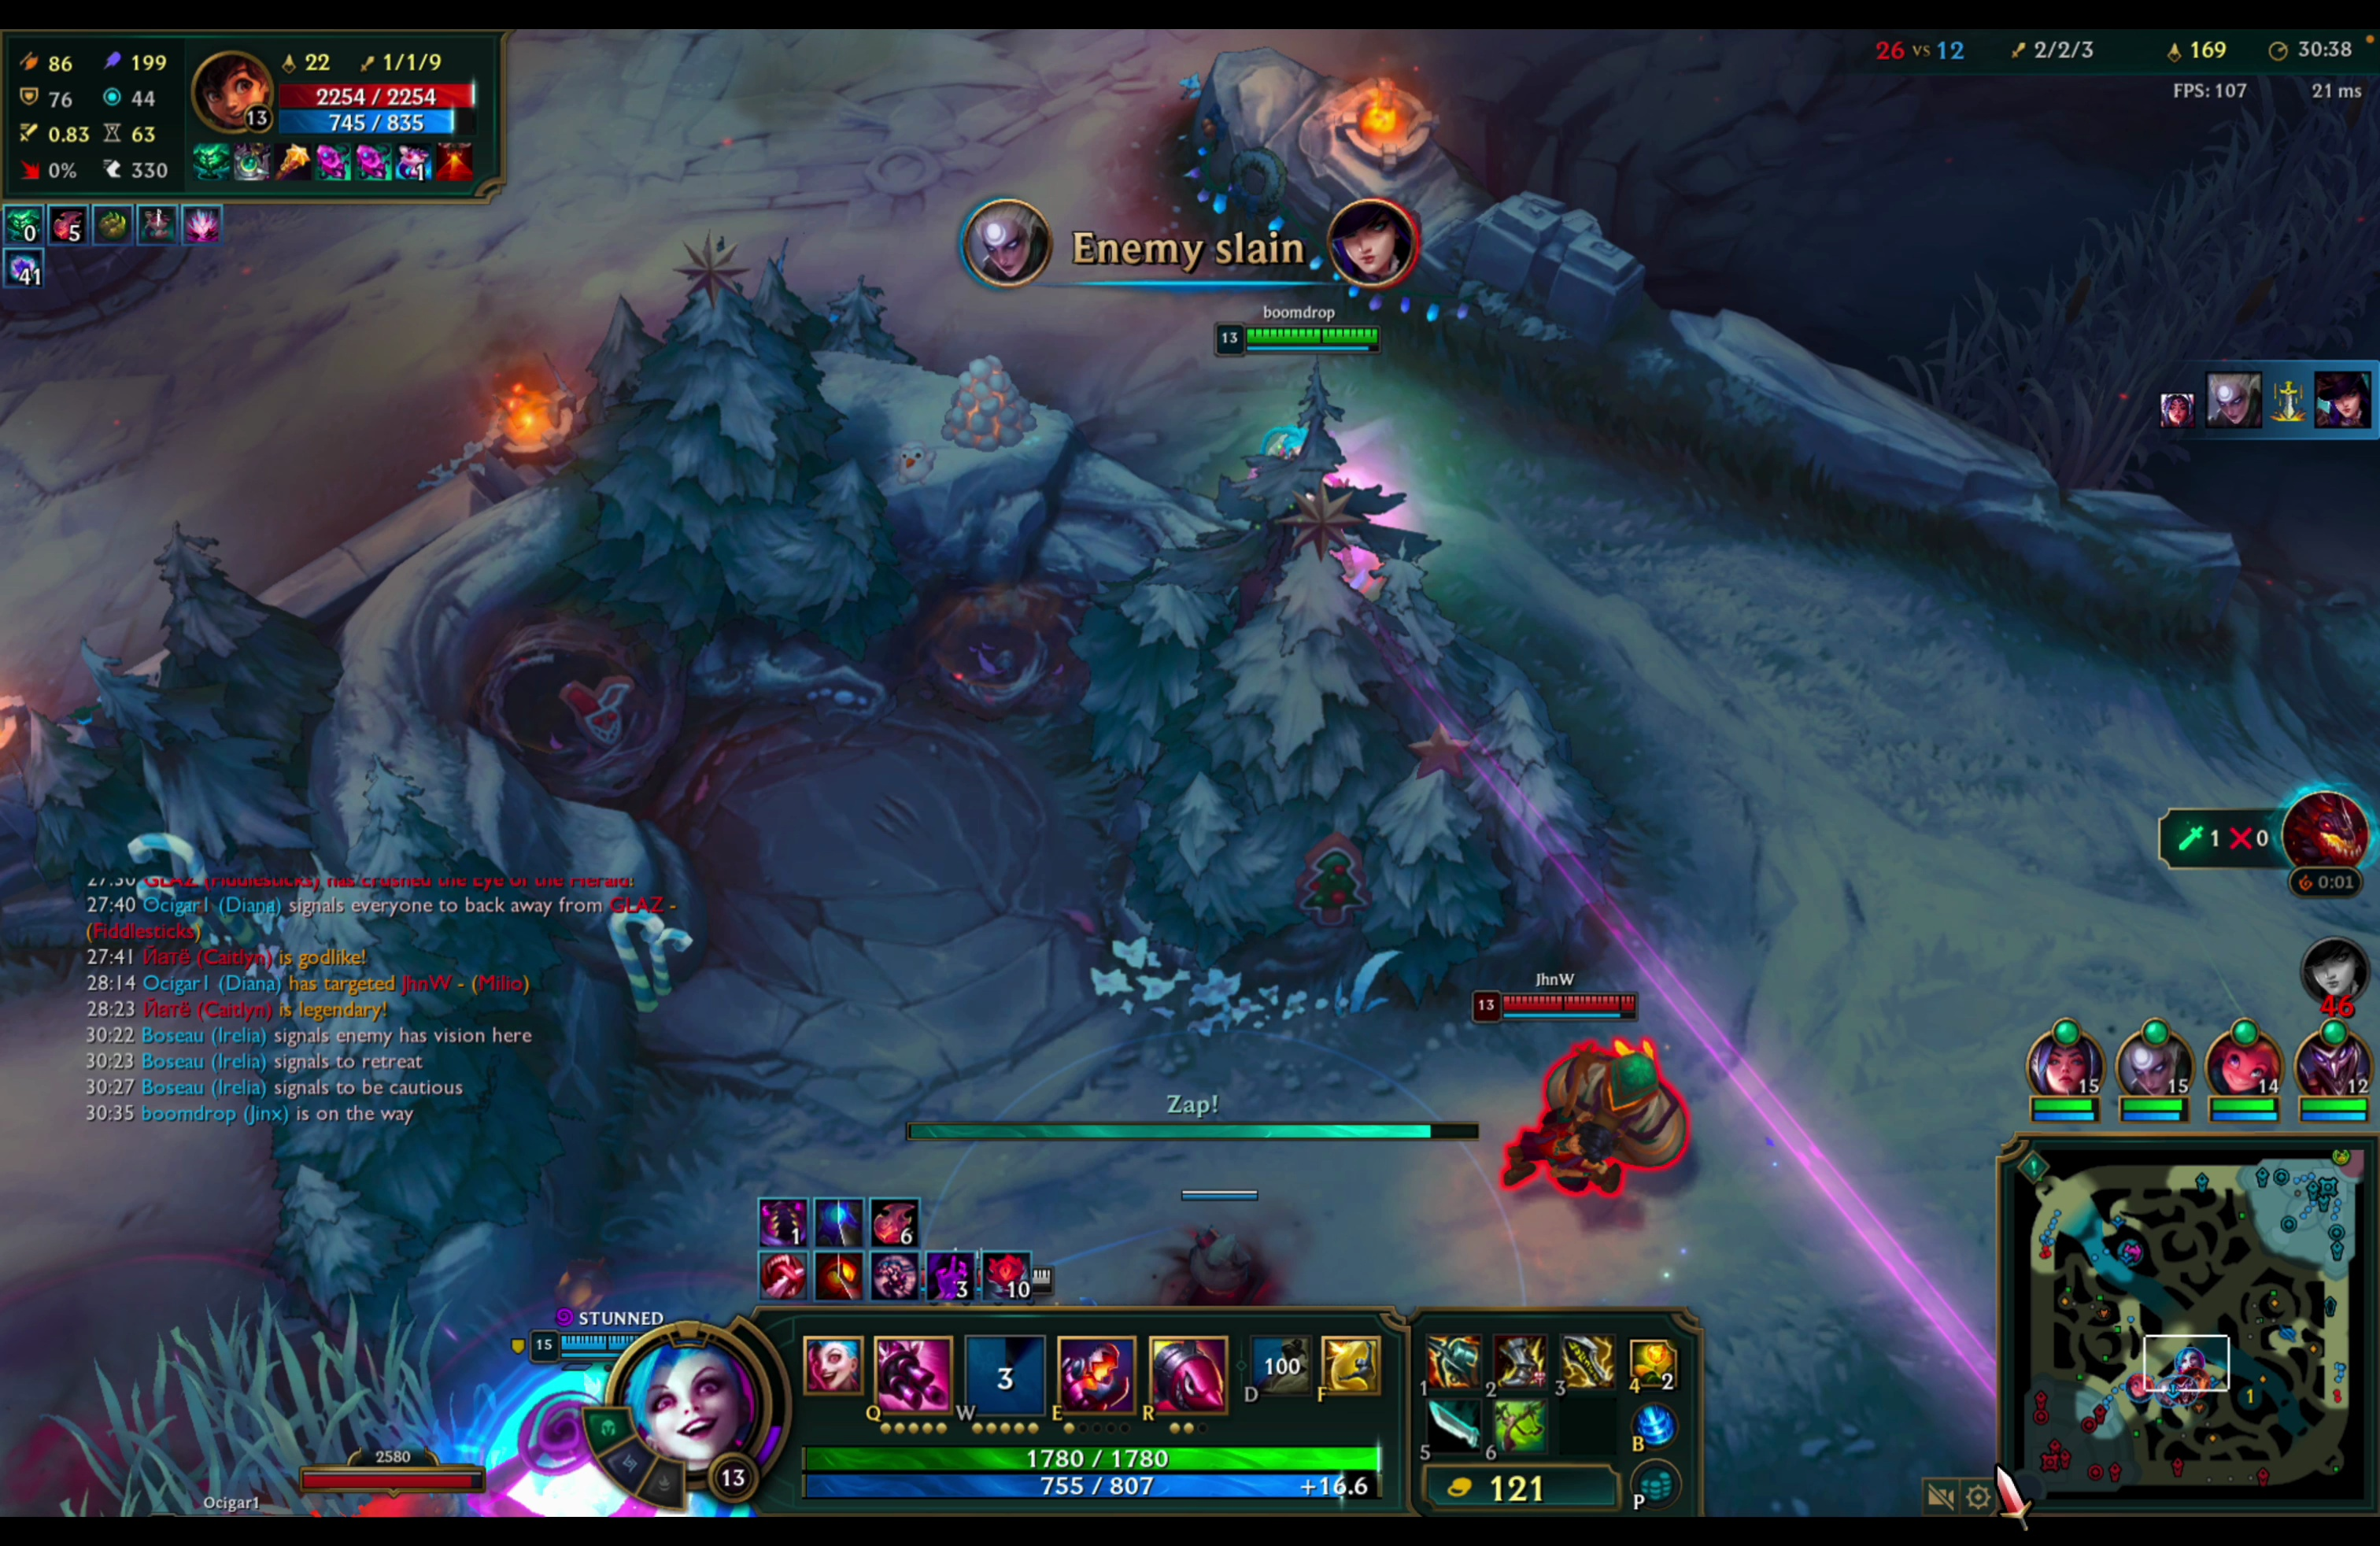JINX_W_PROJECTILE: (1197, 298, 1429, 560)
